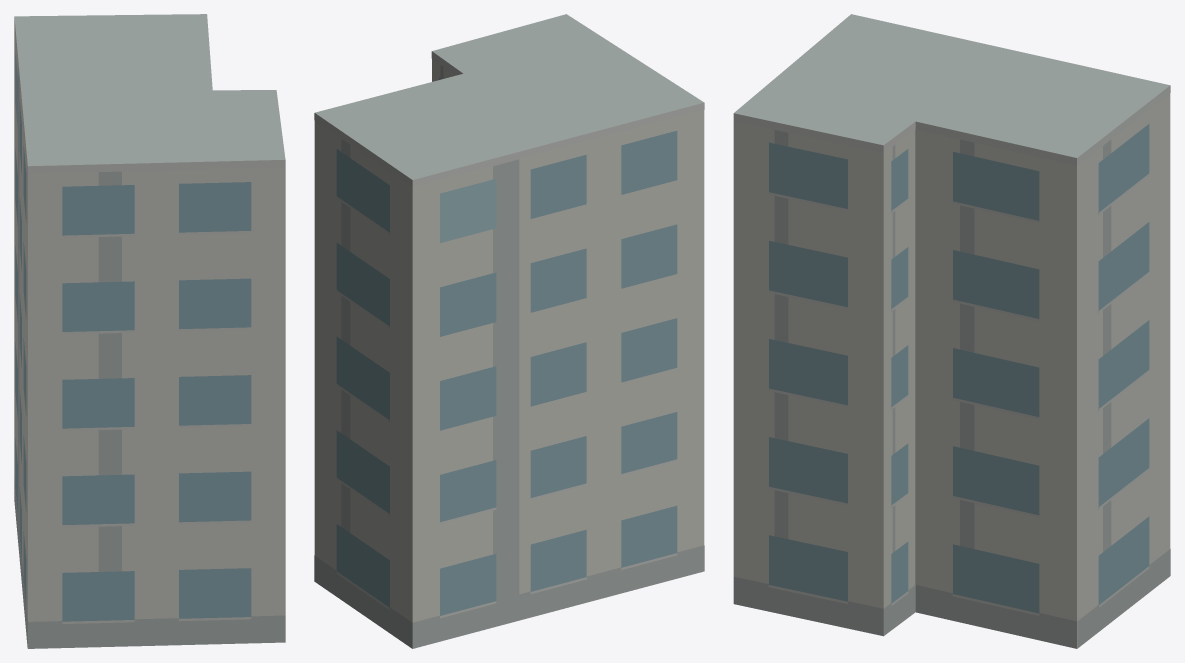
Rendered from survey-upis-32772557.glb.
3 views of the same model, side by side, from view 1: azimuth 30°, elevation 25°; view 2: azimuth 150°, elevation 25°; view 3: azimuth 270°, elevation 25° (orthographic). The views are drawn at different scales.
Parts seen in each view (by area): view 1: survey-upis-32772557.tmp; view 2: survey-upis-32772557.tmp; view 3: survey-upis-32772557.tmp.
Boxes of the visible parts, x1,y1,x2,y2 form: survey-upis-32772557.tmp: [14, 14, 285, 648]; survey-upis-32772557.tmp: [314, 14, 704, 648]; survey-upis-32772557.tmp: [733, 14, 1170, 648].
Size of the model in its own units: 9.61 by 15.25 by 12.31.
